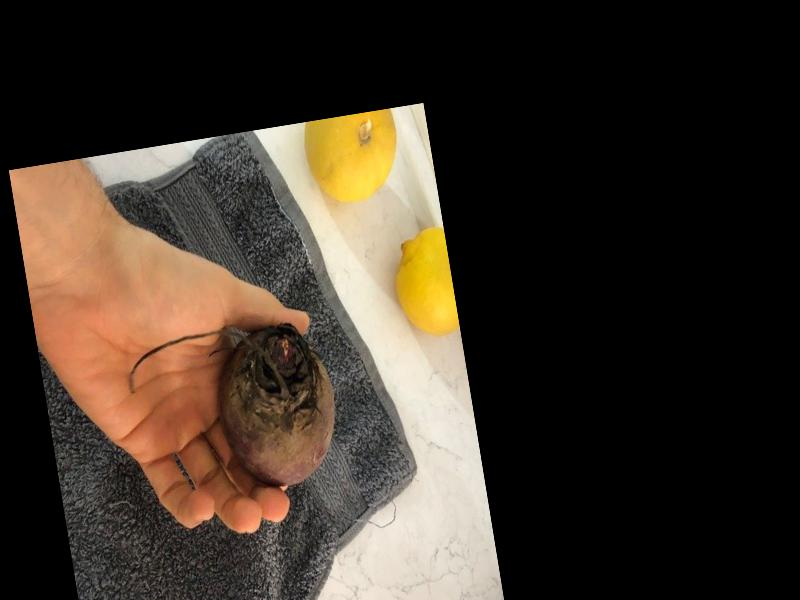Beet: (124, 318, 347, 510)
